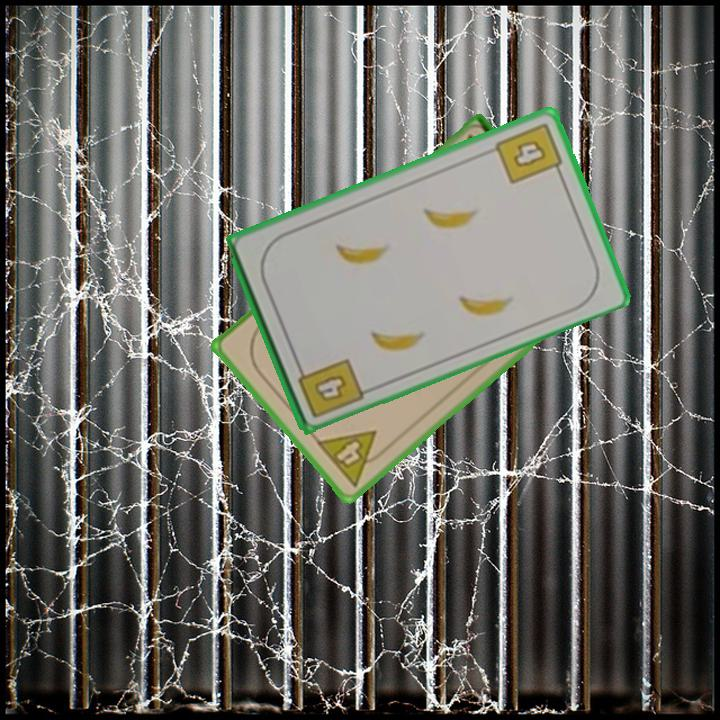4b: (491, 118, 566, 187), (293, 354, 366, 421)
4p: (312, 426, 393, 490)
